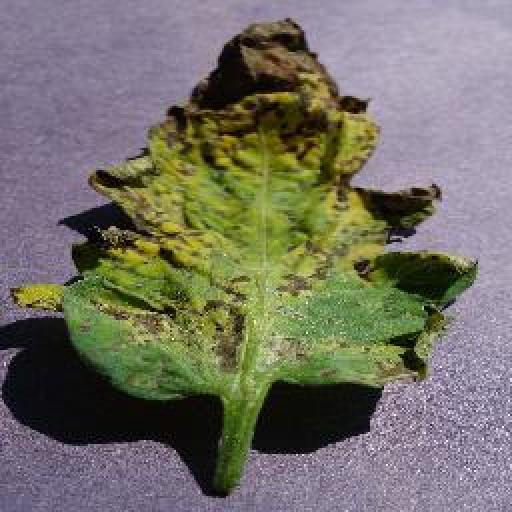disease_tomato: (15, 13, 479, 404)
